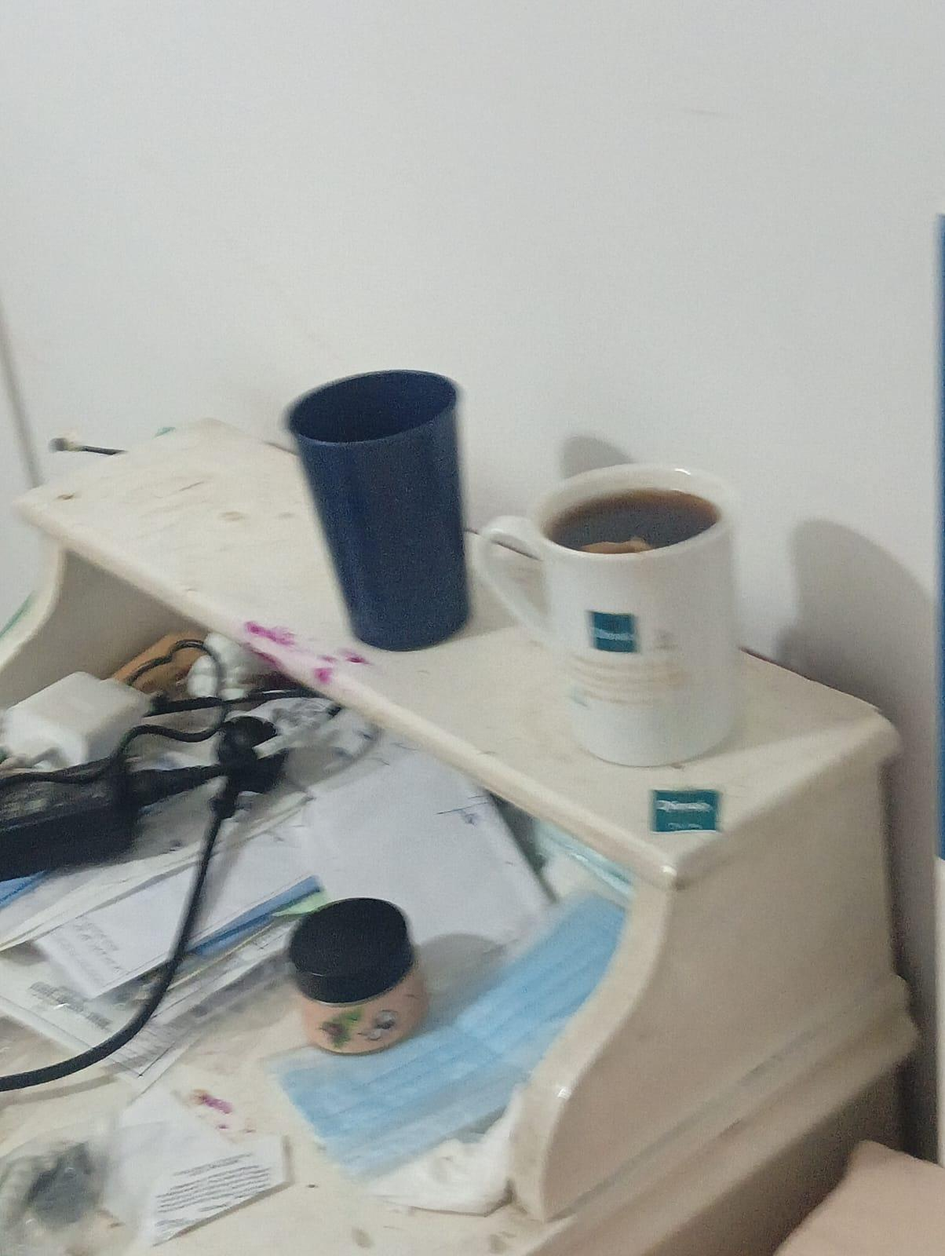cup: (480, 463, 739, 765), (286, 370, 469, 651), (532, 463, 740, 570), (286, 370, 461, 450)
